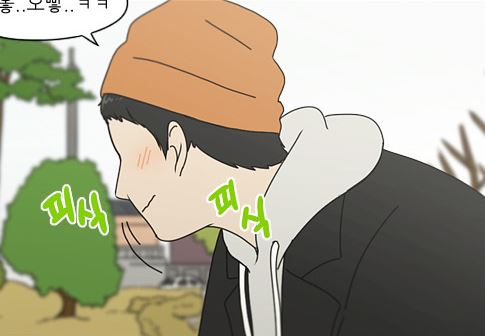hat: (100, 1, 286, 136)
